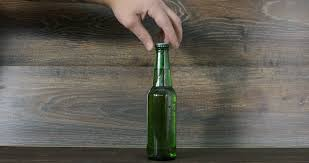beer: (146, 42, 176, 160)
